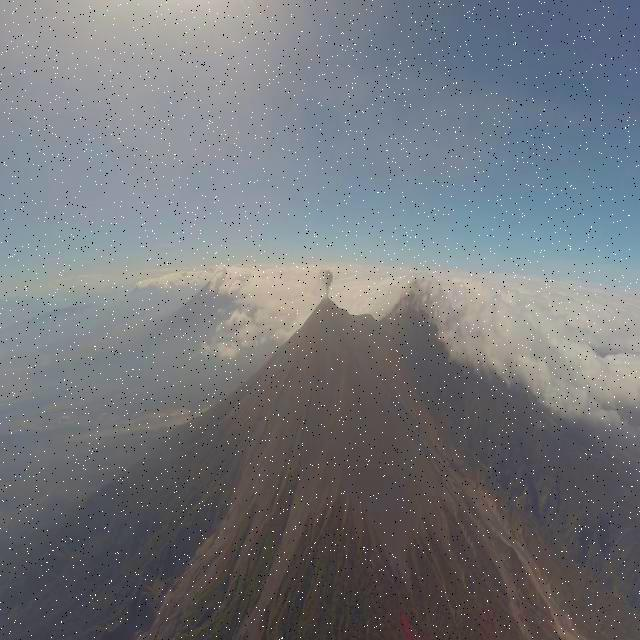Plume: (318, 266, 334, 296)
Summit: (307, 296, 350, 324)
